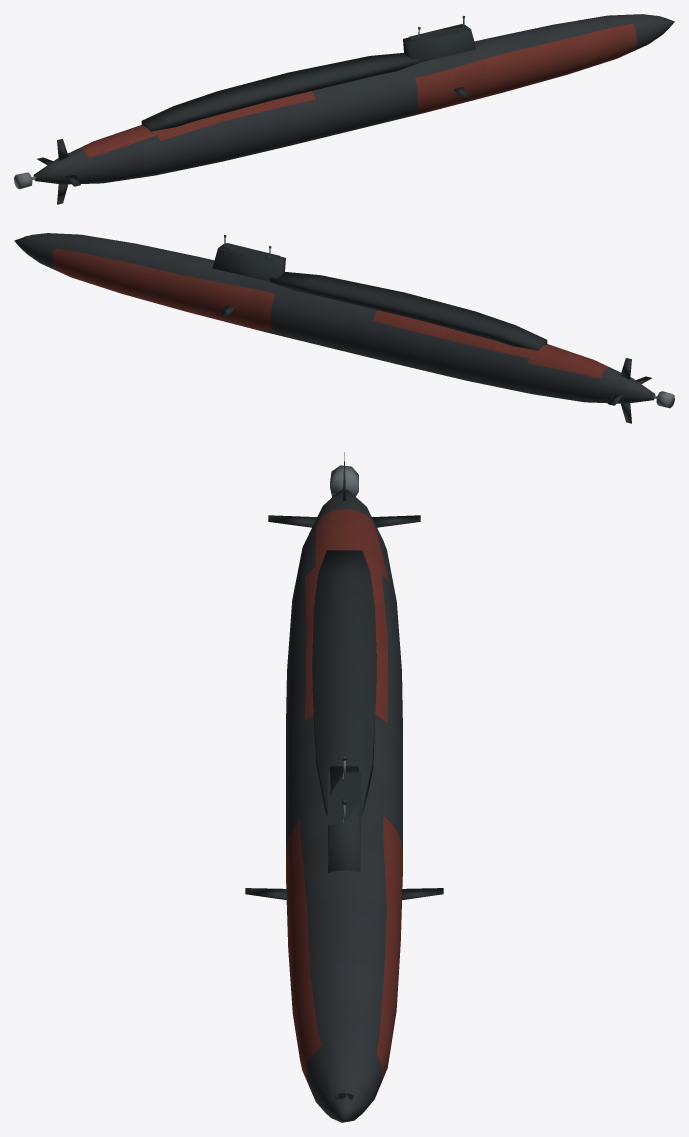
Rendered from RU_SSBN_Borei_LOD3.fbx.
3 renders of one model, top to bottom at view 1: azimuth 30°, elevation 25°; view 2: azimuth 150°, elevation 25°; view 3: azimuth 270°, elevation 25°, orthographic. The views are drawn at different scales.
Visible parts, largest first — view 1: RU_SSBN_Borei_LOD3; view 2: RU_SSBN_Borei_LOD3; view 3: RU_SSBN_Borei_LOD3.
Boxes of the visible parts, left/top/right/bottom form: RU_SSBN_Borei_LOD3: left=14, top=14, right=674, bottom=204; RU_SSBN_Borei_LOD3: left=14, top=233, right=674, bottom=423; RU_SSBN_Borei_LOD3: left=245, top=452, right=443, bottom=1122.
Bounding box in the file's own units: 175 × 22.8 × 22.67.
6 materials, 1 textured.
